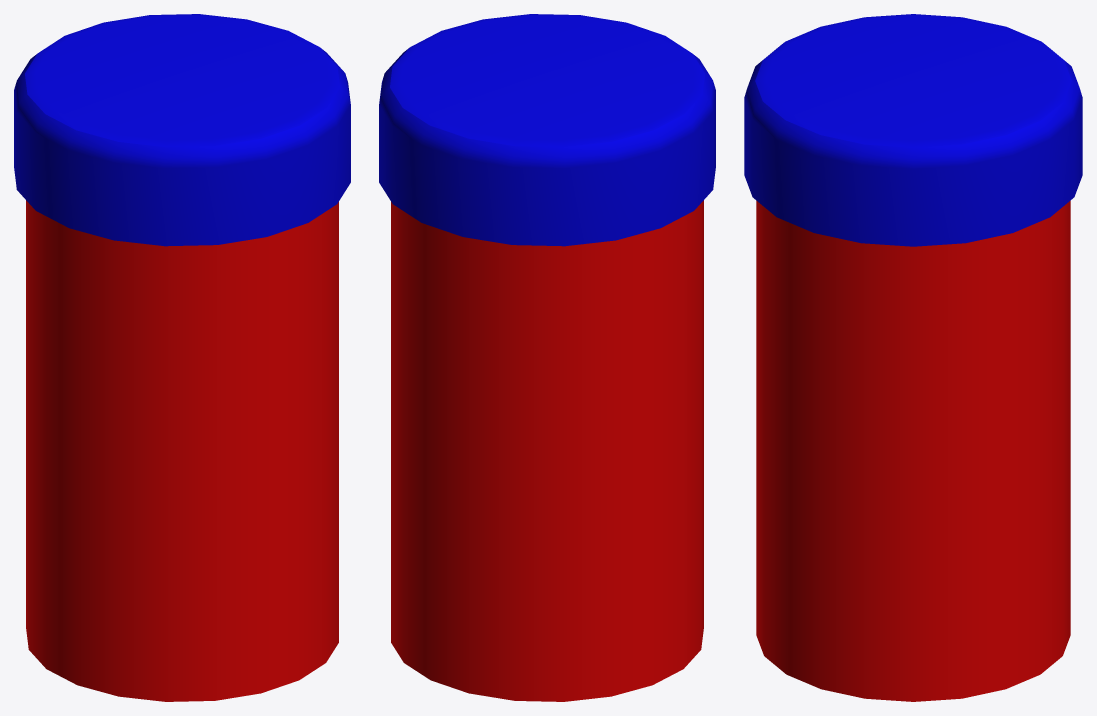
Rendered from PillBottle.fbx.
The picture shows the model from 3 angles, left to right: view 1: azimuth 30°, elevation 25°; view 2: azimuth 150°, elevation 25°; view 3: azimuth 270°, elevation 25°; orthographic projection.
Visible parts, largest first — view 1: pCylinder1; view 2: pCylinder1; view 3: pCylinder1.
Part boxes in pixels (x1=…): pCylinder1: x1=14, y1=14, x2=350, y2=701; pCylinder1: x1=379, y1=14, x2=715, y2=701; pCylinder1: x1=744, y1=14, x2=1082, y2=701.
Size of the model in its own units: 5.64 by 10.25 by 5.64.
